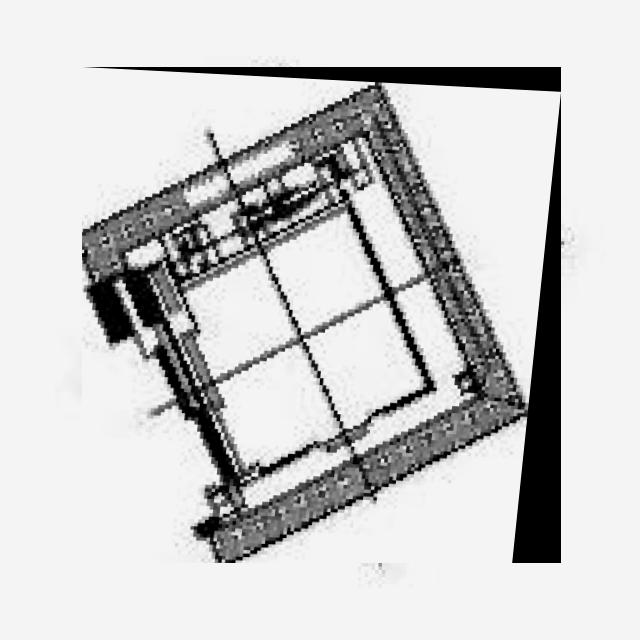lift: (82, 67, 561, 563)
